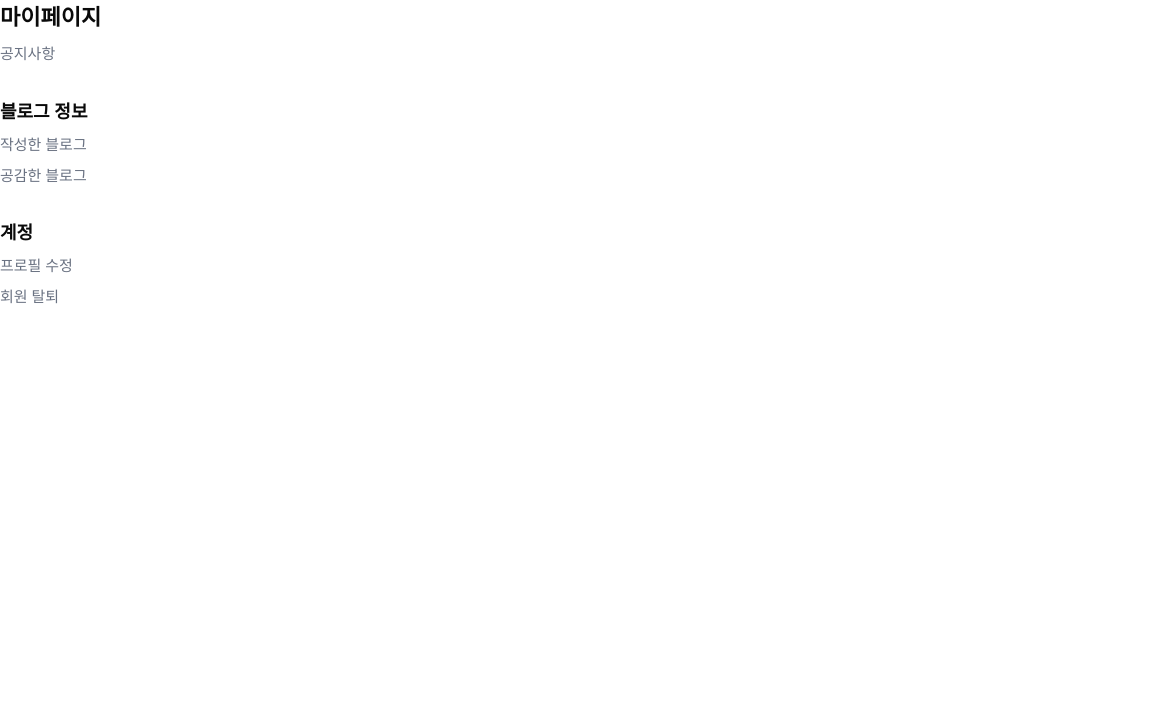
마이페이지 사이드바 › 회원탈퇴 모달 open 상태 › 회원탈퇴 목록 클릭시 Link 대신 모달 콘텐츠가 표시된다.
Click the list item "회원 탈퇴" at (30, 296), box top-left (0, 286), bottom-right (59, 306)
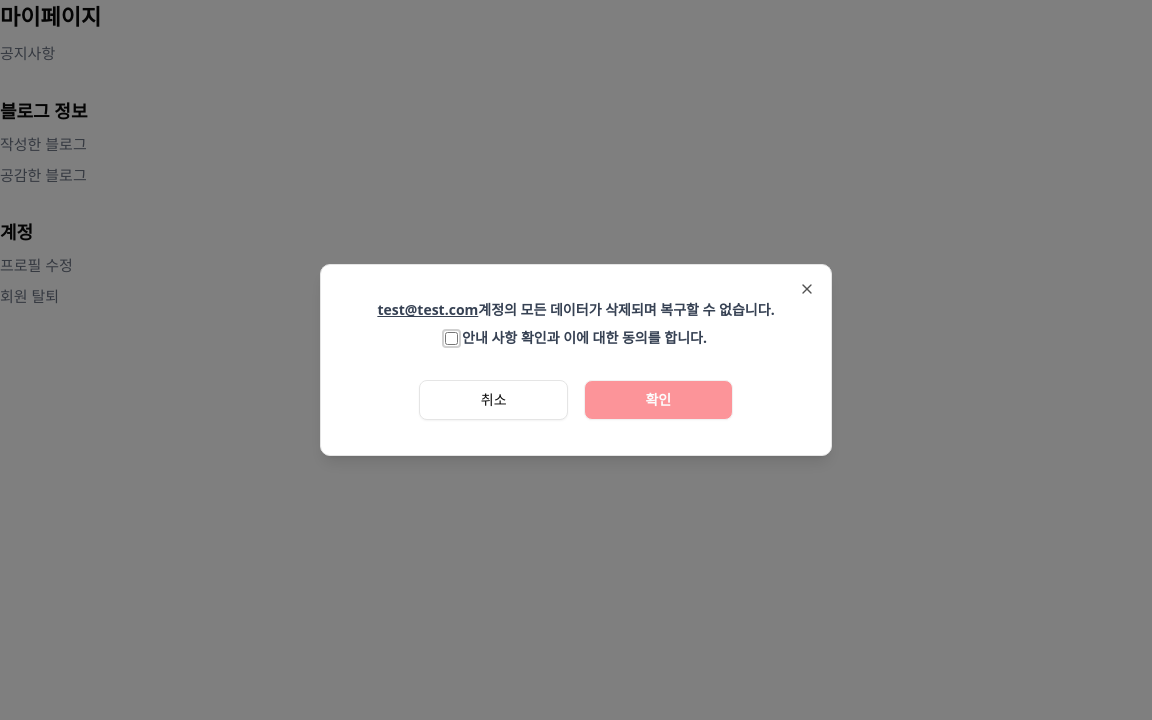
Now the checkbox is shown, box top-left (445, 332), bottom-right (458, 344)
Now the text "test@test.com" is shown, box top-left (377, 300), bottom-right (478, 319)
